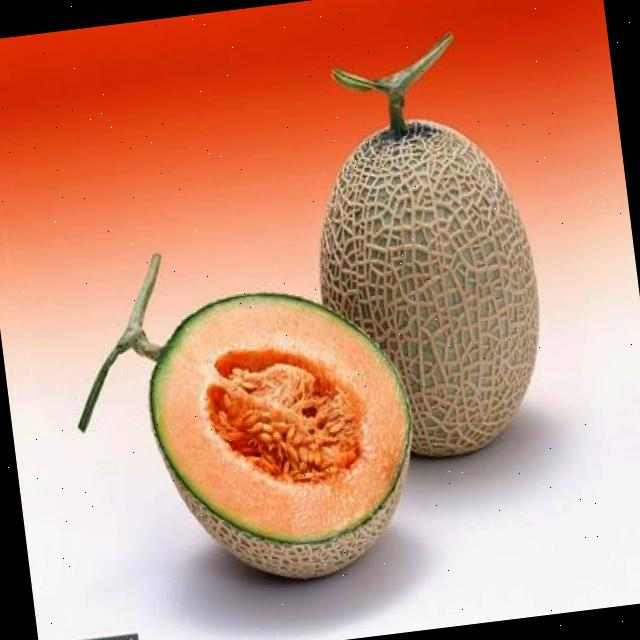Hami Melon: (133, 272, 430, 595), (298, 108, 554, 470)
